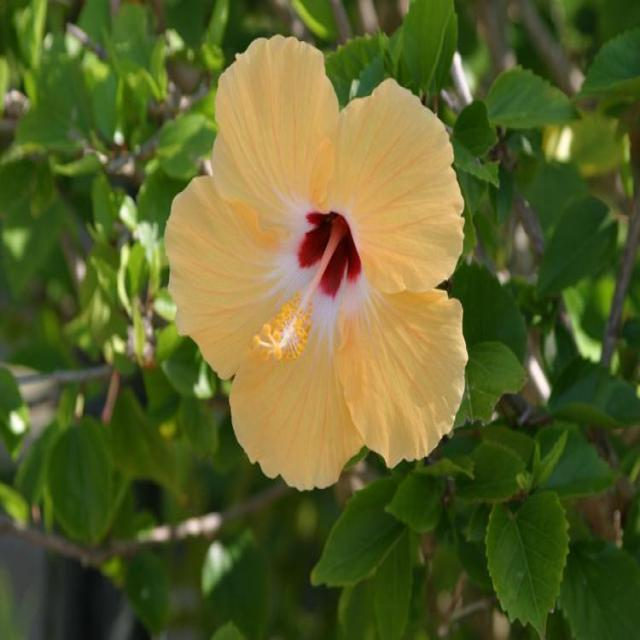hibiscus: (151, 17, 514, 525)
